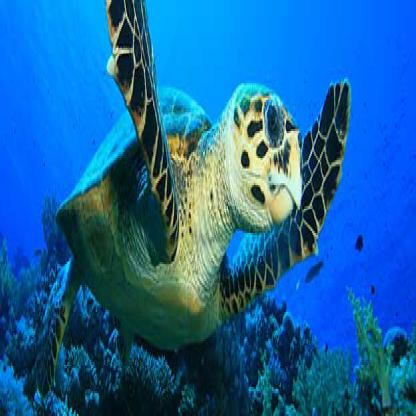turtle: (220, 64, 304, 252)
